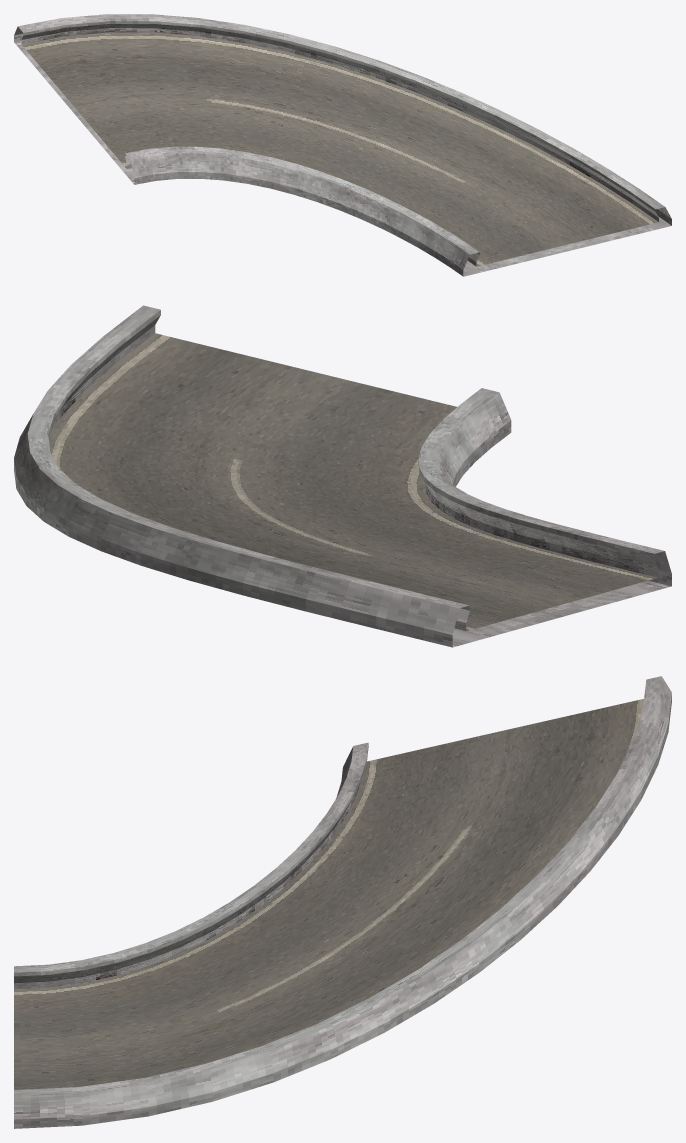
The model's file is road-Turn-Flat-HalfBankedLeft-Up1-Left-Size2.glb.
3 views of the same model, one above another, from view 1: azimuth 30°, elevation 25°; view 2: azimuth 150°, elevation 25°; view 3: azimuth 270°, elevation 25° (orthographic). The views are drawn at different scales.
Visible parts, largest first — view 1: road-Turn-Flat-HalfBankedLeft-Up1-Left-Size2; view 2: road-Turn-Flat-HalfBankedLeft-Up1-Left-Size2; view 3: road-Turn-Flat-HalfBankedLeft-Up1-Left-Size2.
Boxes of the visible parts, x1=… form: road-Turn-Flat-HalfBankedLeft-Up1-Left-Size2: x1=14, y1=14, x2=671, y2=276; road-Turn-Flat-HalfBankedLeft-Up1-Left-Size2: x1=14, y1=305, x2=671, y2=647; road-Turn-Flat-HalfBankedLeft-Up1-Left-Size2: x1=14, y1=676, x2=671, y2=1128.
Bounding box in the file's own units: 2 × 0.5859 × 2.
2 materials, 2 textured.
